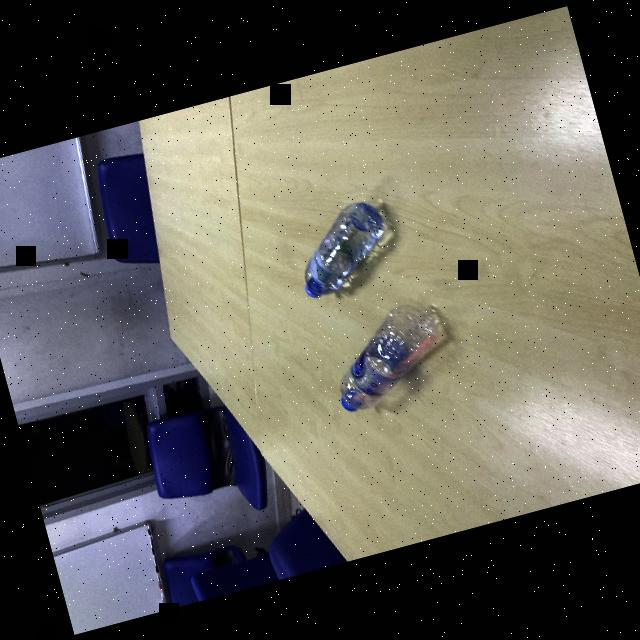plastic_bottle: (318, 295, 462, 419), (284, 194, 405, 304)
plastic_bottle_cap: (338, 388, 362, 414), (302, 278, 323, 300)
